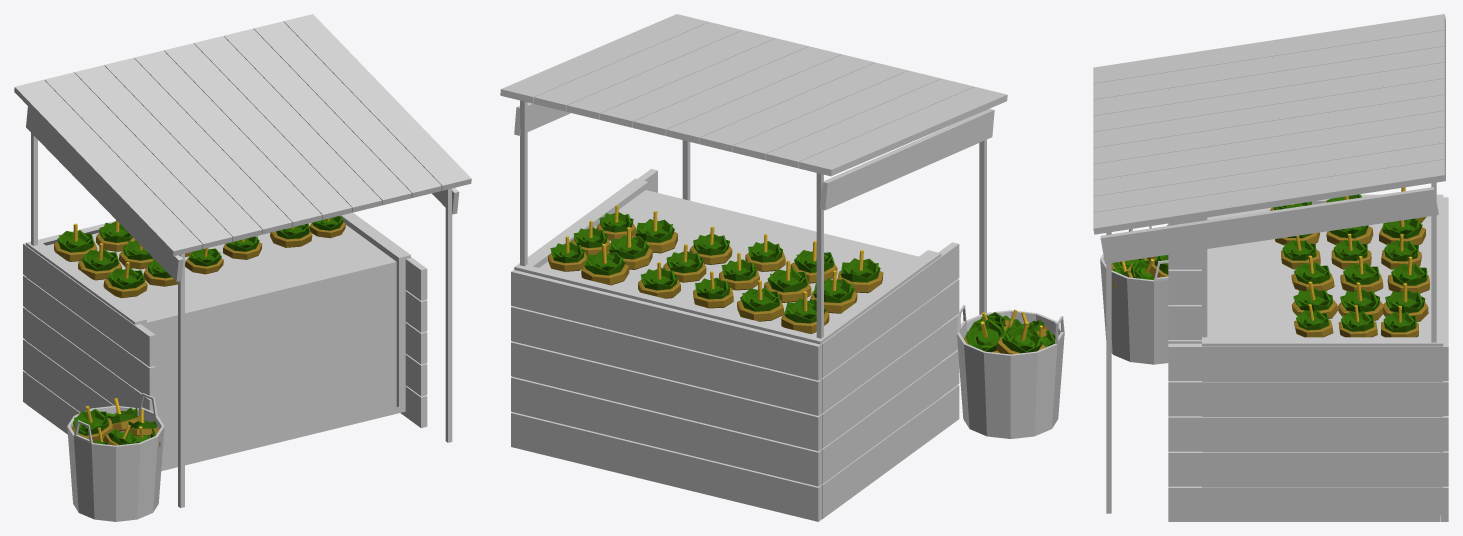
The picture shows the model from 3 angles, left to right: view 1: azimuth 30°, elevation 25°; view 2: azimuth 150°, elevation 25°; view 3: azimuth 270°, elevation 25°; orthographic projection. The views are drawn at different scales.
Visible parts, largest first — view 1: Cube.002, Cube, Cube.013, Cube.005, Cylinder, Cube.004, Cube.003, Cube.006, Cube.001, Cube.012, Cube.009; view 2: Cube.012, Cube.002, Cube.013, Cube.005, Cube, Cylinder, Cube.004, Cube.001, Cube.003, Cube.006, Cube.009; view 3: Cube.002, Cube.013, Cube, Cube.005, Cube.004, Cylinder, Cube.012, Cube.003, Cube.001, Cube.008.
Boxes of the visible parts, x1=… form: Cube.002: x1=14, y1=14, x2=471, y2=256; Cube: x1=26, y1=212, x2=410, y2=470; Cube.013: x1=26, y1=246, x2=427, y2=434; Cube.005: x1=54, y1=216, x2=345, y2=298; Cylinder: x1=67, y1=393, x2=164, y2=521; Cube.004: x1=26, y1=106, x2=459, y2=281; Cube.003: x1=178, y1=188, x2=452, y2=507; Cube.006: x1=71, y1=406, x2=113, y2=442; Cube.001: x1=31, y1=133, x2=37, y2=245; Cube.012: x1=23, y1=243, x2=26, y2=403; Cube.009: x1=107, y1=398, x2=140, y2=431; Cube.012: x1=511, y1=269, x2=822, y2=521; Cube.002: x1=500, y1=14, x2=1007, y2=176; Cube.013: x1=638, y1=169, x2=959, y2=518; Cube.005: x1=548, y1=205, x2=883, y2=333; Cube: x1=514, y1=178, x2=941, y2=485; Cylinder: x1=957, y1=305, x2=1064, y2=438; Cube.004: x1=514, y1=102, x2=994, y2=210; Cube.001: x1=520, y1=100, x2=823, y2=338; Cube.003: x1=682, y1=110, x2=986, y2=314; Cube.006: x1=996, y1=321, x2=1045, y2=354; Cube.009: x1=963, y1=319, x2=1006, y2=353; Cube.002: x1=1093, y1=14, x2=1445, y2=234; Cube.013: x1=1168, y1=218, x2=1440, y2=521; Cube: x1=1202, y1=194, x2=1443, y2=514; Cube.005: x1=1270, y1=187, x2=1430, y2=337; Cube.004: x1=1100, y1=187, x2=1438, y2=263; Cylinder: x1=1100, y1=226, x2=1168, y2=364; Cube.012: x1=1440, y1=197, x2=1448, y2=521; Cube.003: x1=1106, y1=232, x2=1111, y2=513; Cube.001: x1=1431, y1=182, x2=1436, y2=342; Cube.008: x1=1126, y1=259, x2=1154, y2=279.
Size of the model in its own units: 188 by 154 by 141.
